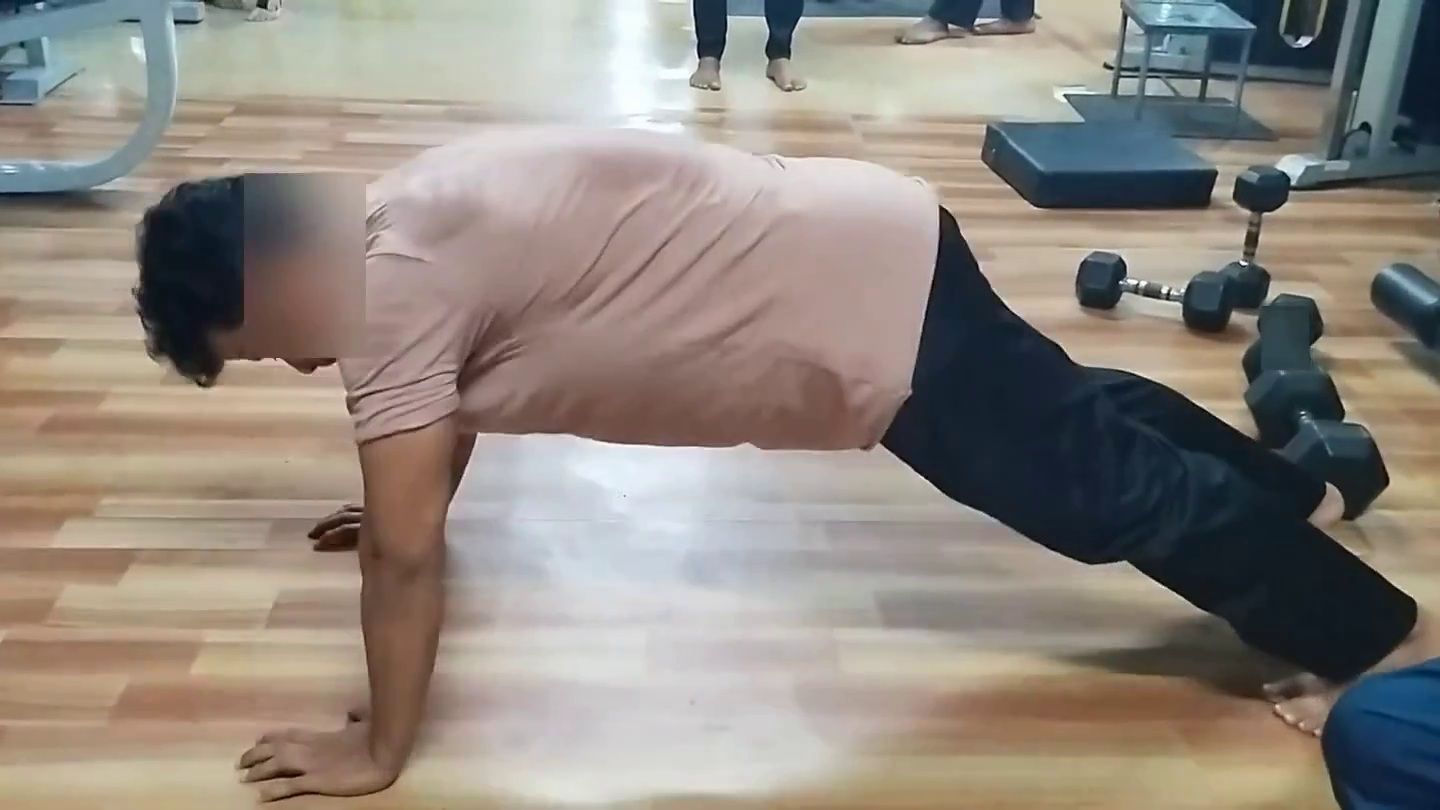push_up: (139, 143, 1440, 810)
